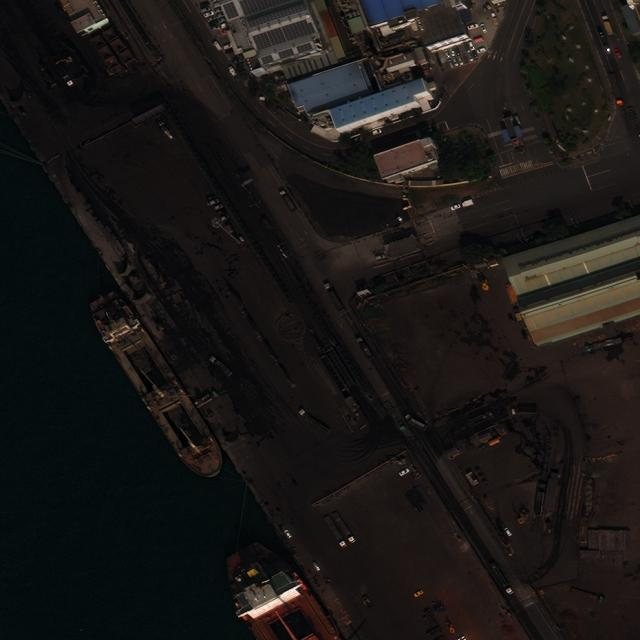Cargo: (84, 287, 233, 492)
Container Ship: (223, 542, 341, 640)
